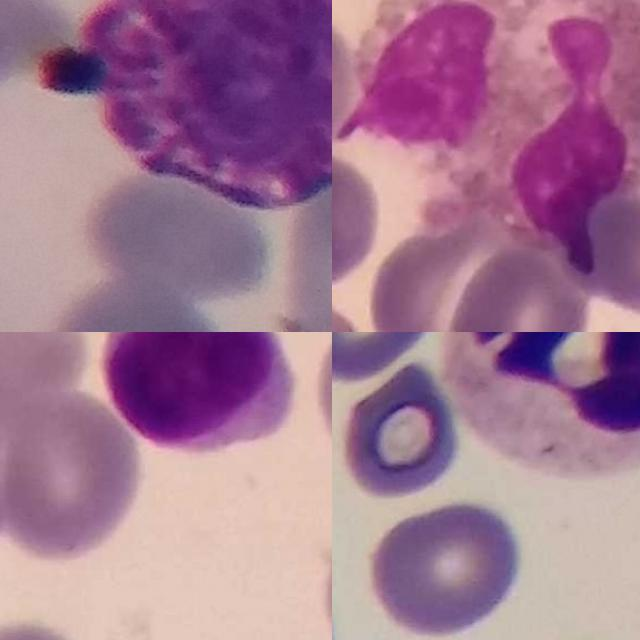Basophil: (81, 0, 332, 211)
Eosinophil: (350, 0, 640, 248)
Lymphocyte: (103, 332, 297, 455)
Neutrophil: (440, 332, 640, 479)
